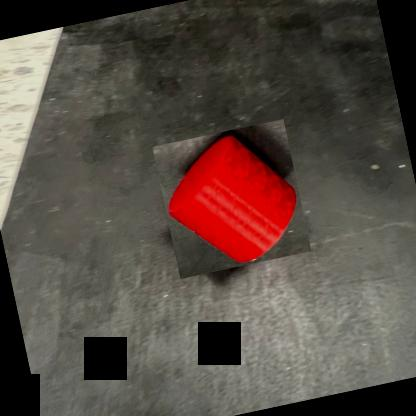red cylinder: (152, 119, 312, 278)
